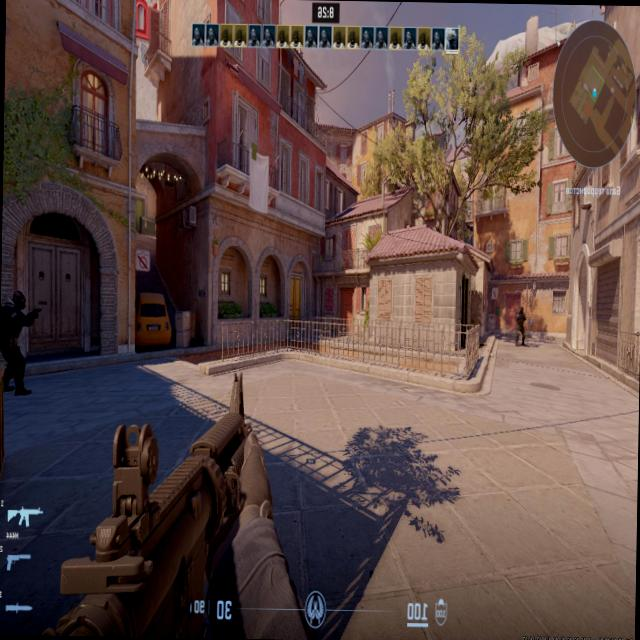CT: (4, 290, 30, 382), (515, 305, 524, 345)
CT_heat: (12, 292, 24, 308), (518, 308, 522, 314)
